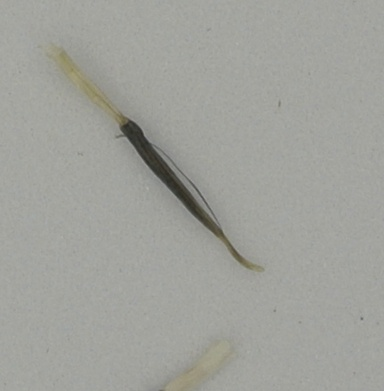เมล้ดปลายพู่กัน: (42, 38, 268, 276)
